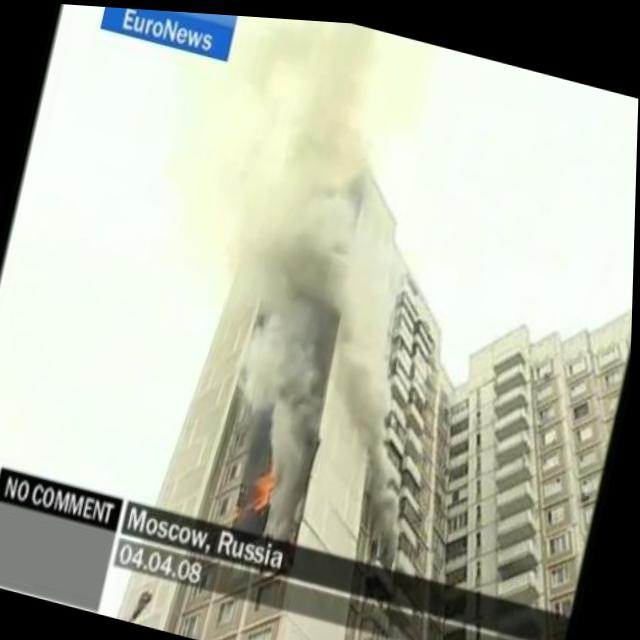fire: (251, 457, 284, 510)
